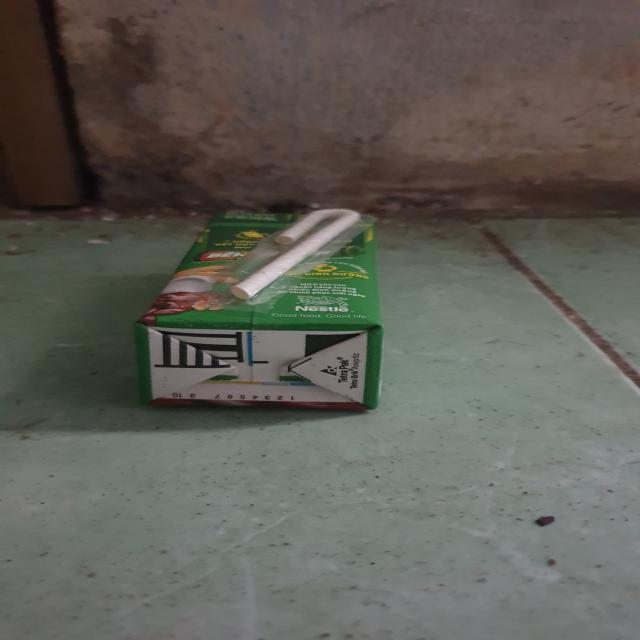Milo: (140, 207, 391, 414)
